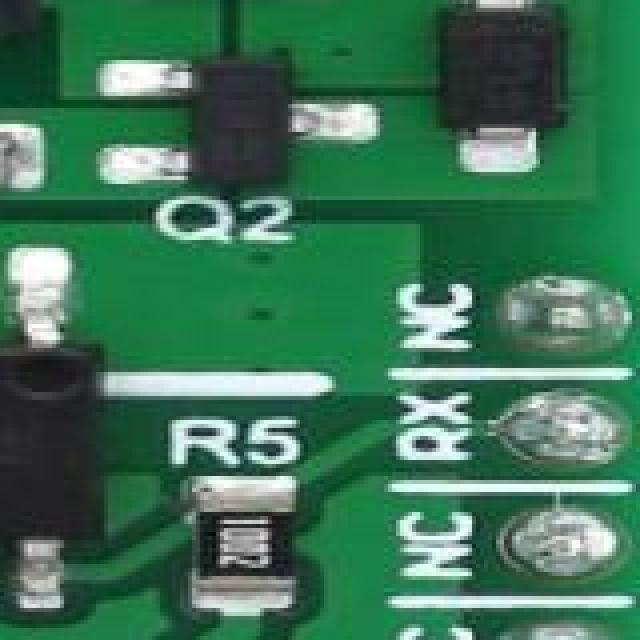IC: (0, 280, 112, 580)
diode: (440, 0, 564, 136)
resistor: (188, 488, 298, 590), (0, 124, 8, 184)
transistor: (140, 56, 334, 188), (0, 0, 28, 84)
